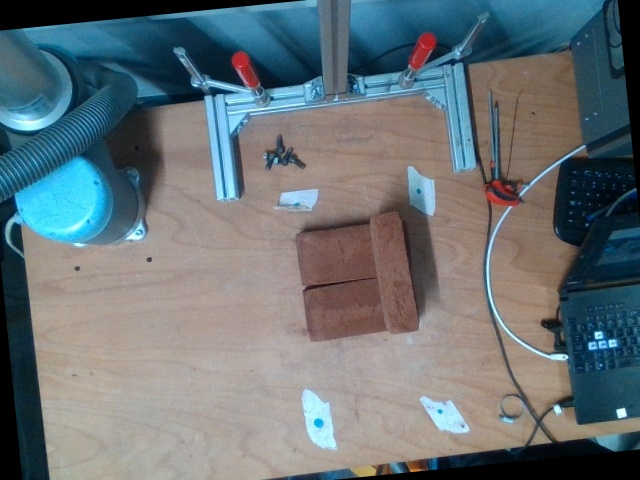brick-side: (369, 213, 419, 330)
